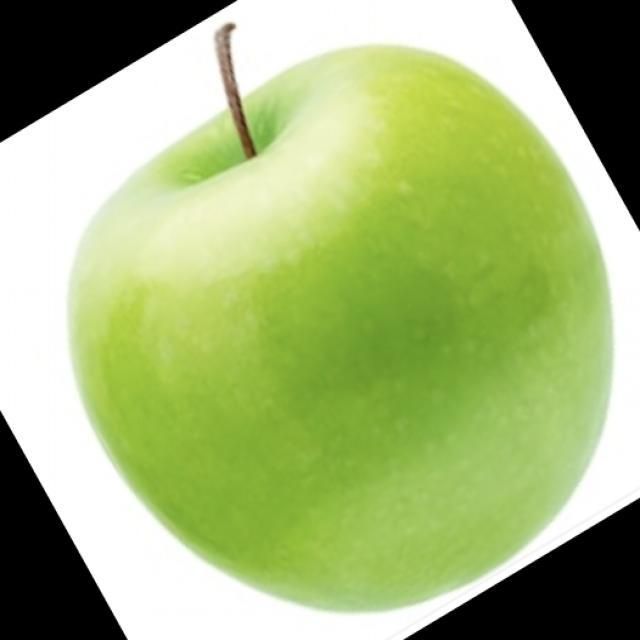Fresh Apple: (65, 35, 616, 623)
